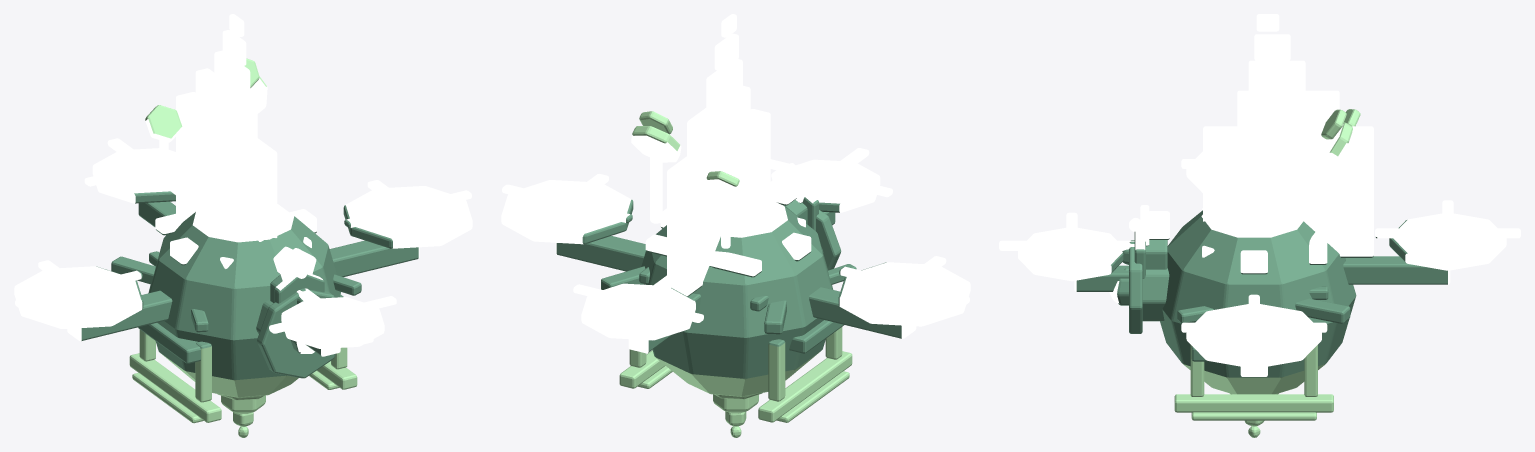
File: Enemy_Drone.fbx
3 renders of one model, left to right at view 1: azimuth 30°, elevation 25°; view 2: azimuth 150°, elevation 25°; view 3: azimuth 270°, elevation 25°, orthographic. The views are drawn at different scales.
Visible parts, largest first — view 1: Enemy_Drone_Buffer_v5; view 2: Enemy_Drone_Buffer_v5; view 3: Enemy_Drone_Buffer_v5.
Boxes of the visible parts, x1,y1,x2,y2 form: Enemy_Drone_Buffer_v5: [14, 14, 472, 437]; Enemy_Drone_Buffer_v5: [501, 14, 970, 437]; Enemy_Drone_Buffer_v5: [999, 14, 1520, 437].
Bounding box in the file's own units: 2.34 × 2.05 × 2.29.
